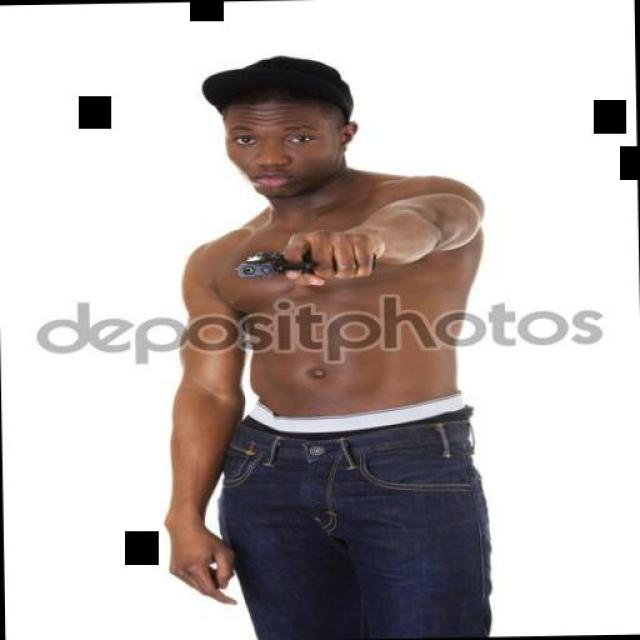gun: (239, 242, 369, 286)
